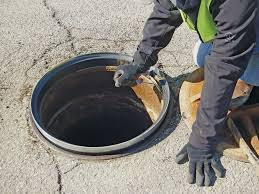Manhole-Open: (29, 45, 171, 158)
human: (108, 1, 256, 186)
